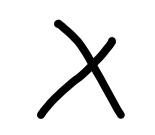plus: (36, 20, 125, 121)
